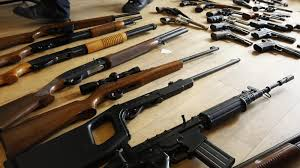Gun: (15, 11, 294, 159)
